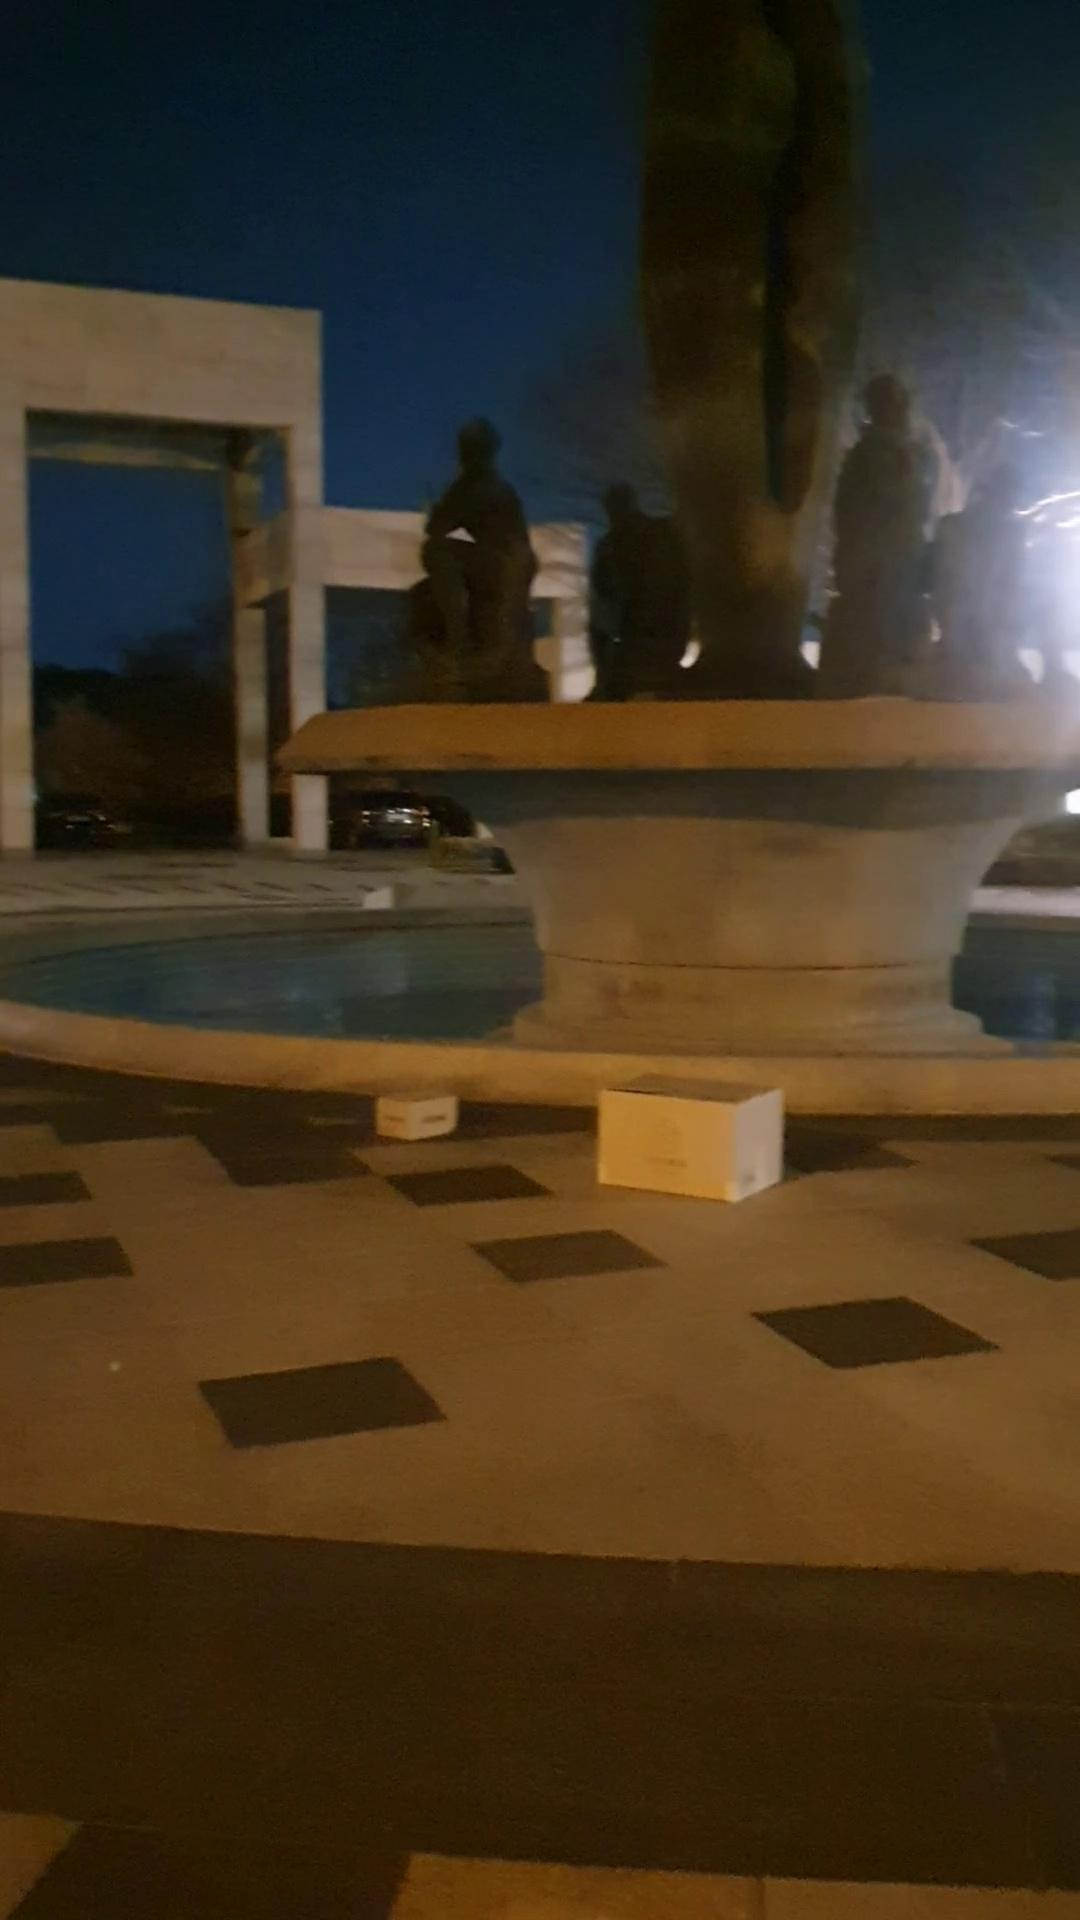Box: (585, 1068, 796, 1218), (361, 1077, 469, 1143)
